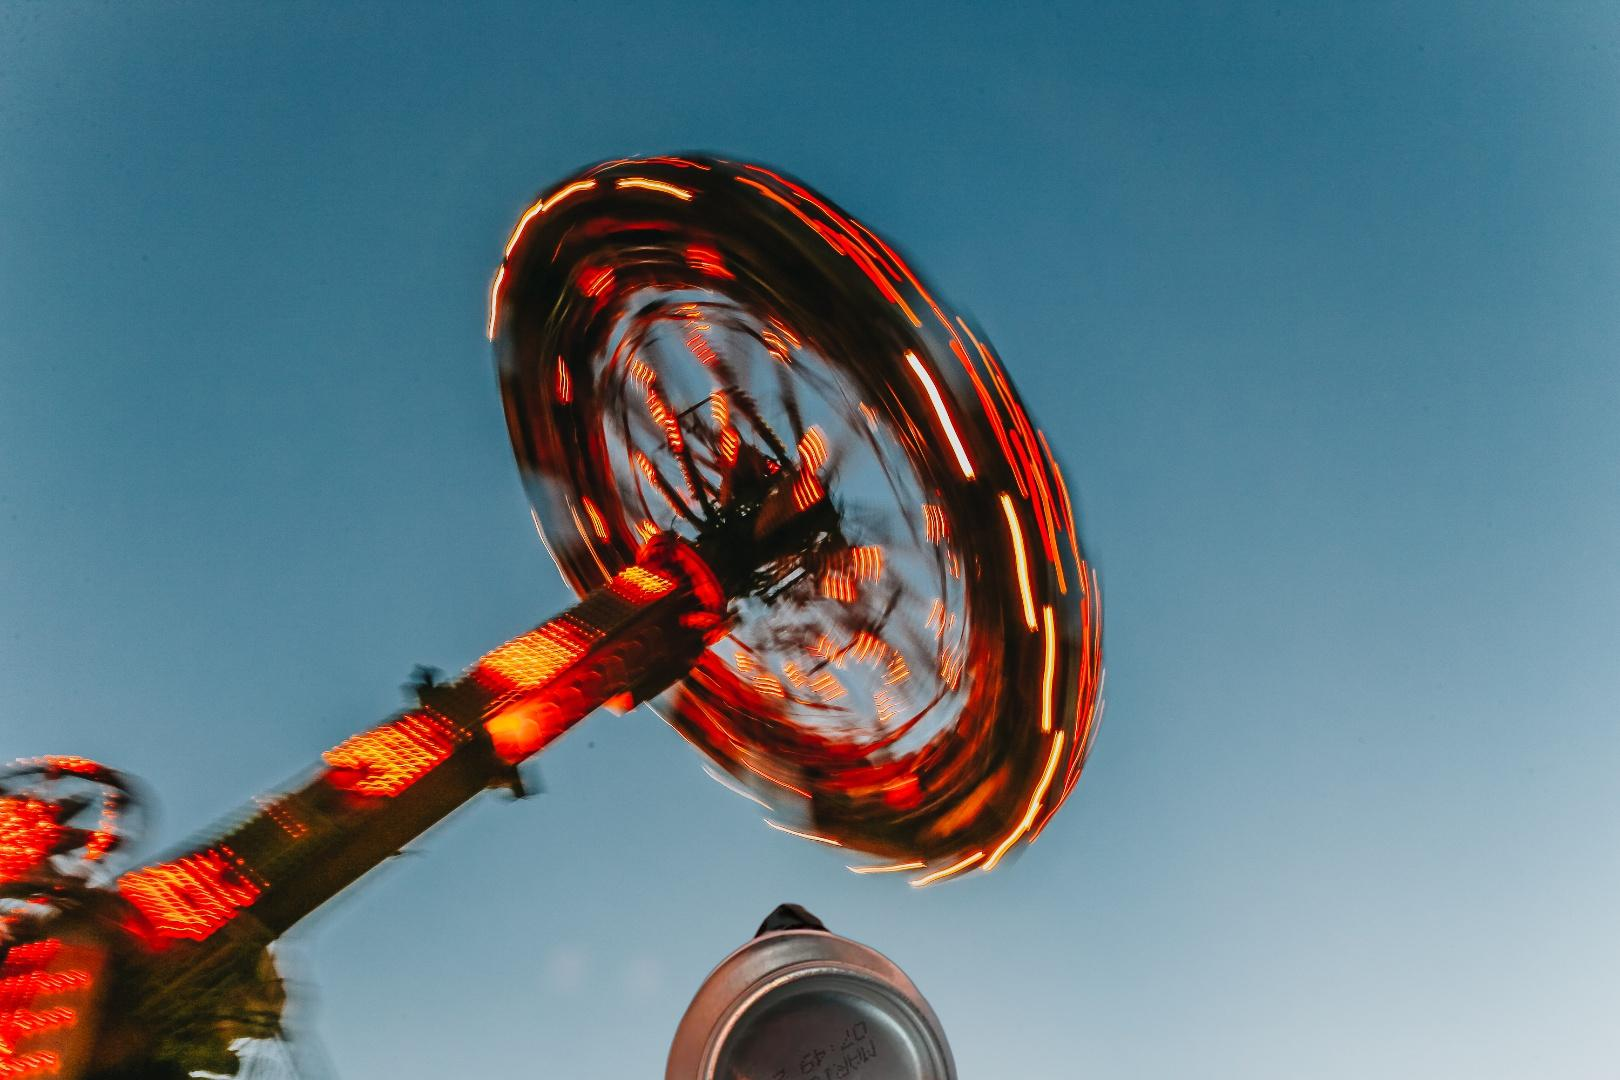metal-cans: (659, 900, 965, 1080)
